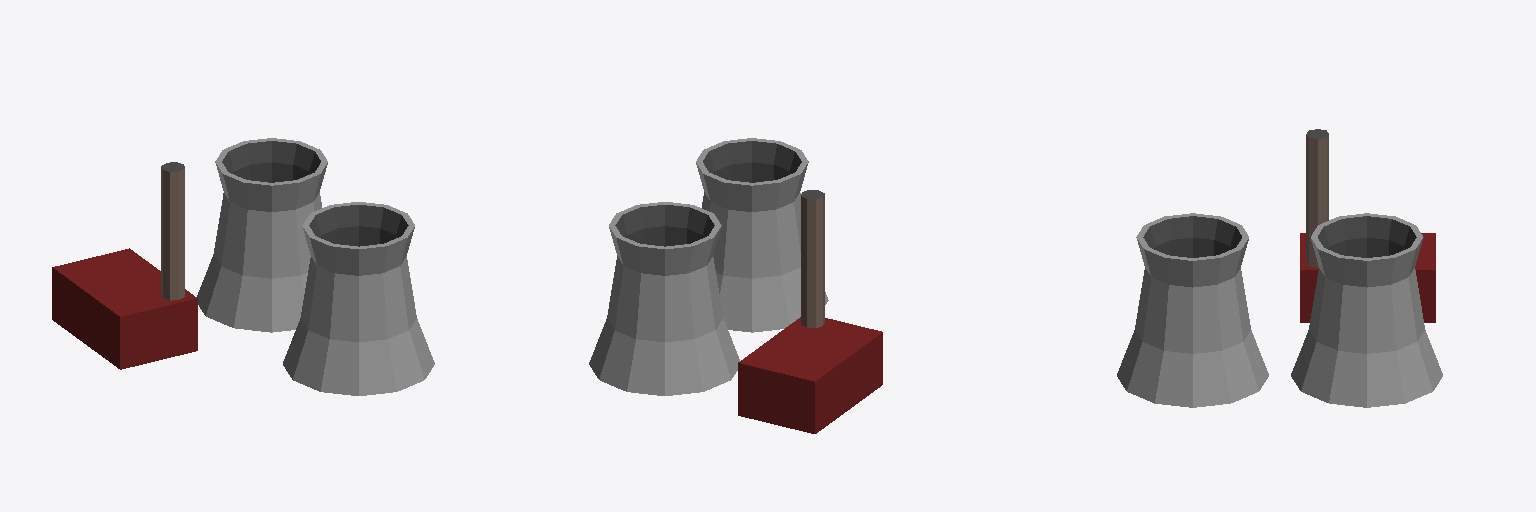
File: power_plant.obj
3 views of the same model, side by side, from view 1: azimuth 30°, elevation 25°; view 2: azimuth 150°, elevation 25°; view 3: azimuth 270°, elevation 25° (orthographic).
Visible parts, largest first — view 1: cylinder3_copy5, cylinder3, cube4; view 2: cylinder3, cylinder3_copy5, cube4; view 3: cylinder3_copy5, cylinder3, cube4.
Part boxes in pixels (bbox=[...]): cylinder3_copy5: bbox=[283, 202, 434, 395]; cylinder3: bbox=[197, 138, 327, 332]; cube4: bbox=[52, 162, 197, 369]; cylinder3: bbox=[589, 202, 739, 395]; cylinder3_copy5: bbox=[696, 138, 828, 332]; cube4: bbox=[738, 190, 882, 433]; cylinder3_copy5: bbox=[1117, 213, 1268, 407]; cylinder3: bbox=[1291, 213, 1442, 407]; cube4: bbox=[1300, 129, 1435, 322].
Size of the model in its own units: 2.84 by 1.96 by 3.21.